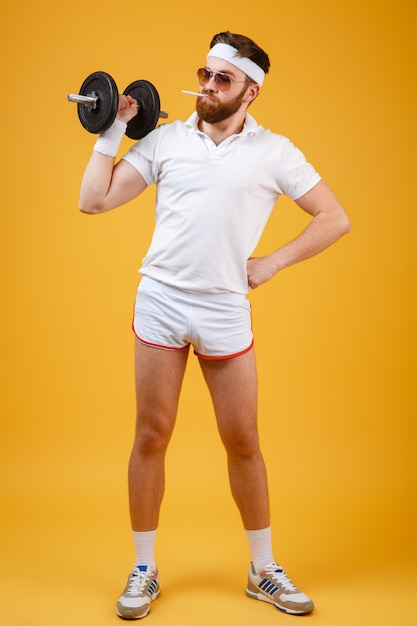cigarette: (181, 86, 207, 98)
